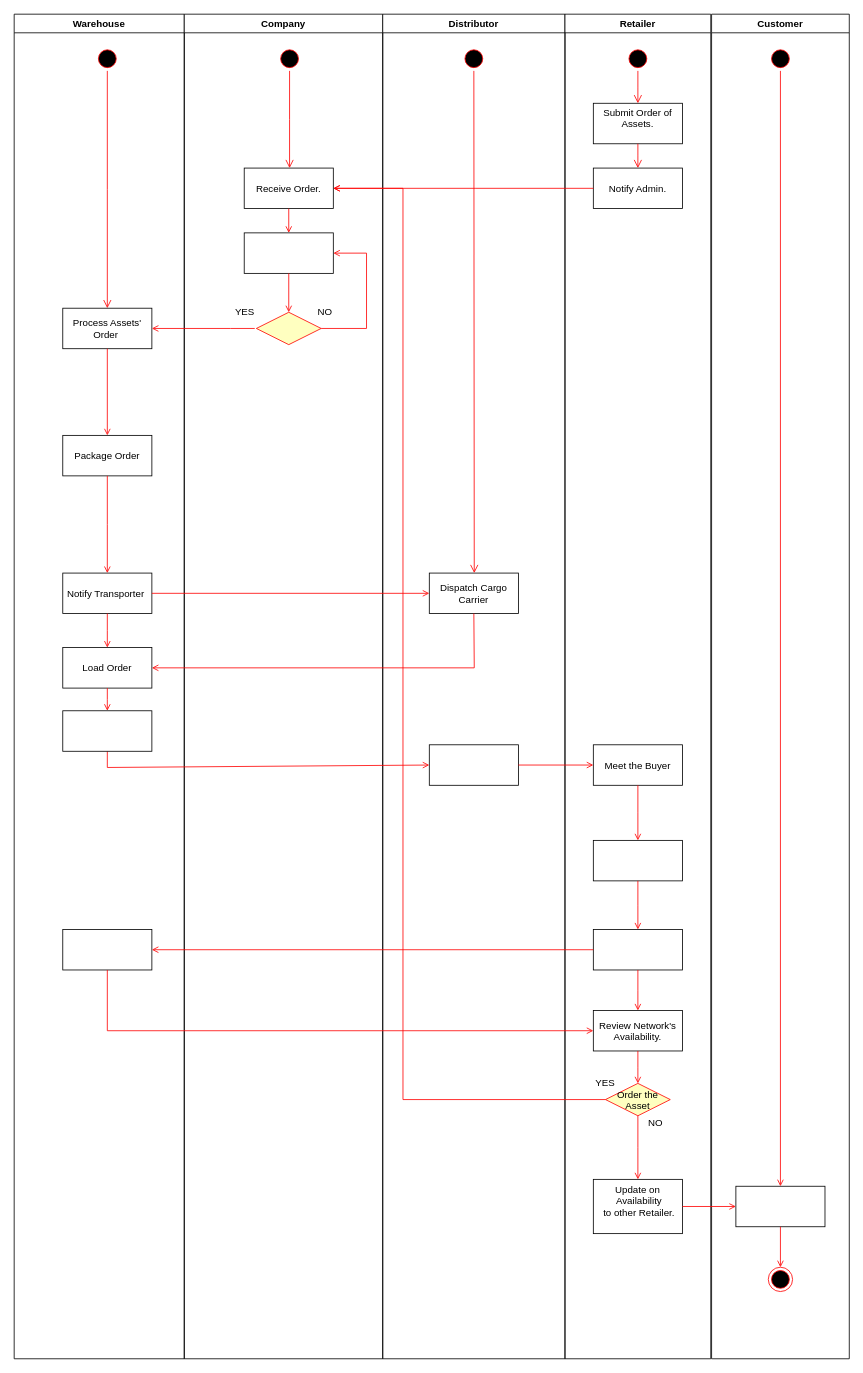
The diagram is 863 pixels wide and 1373 high, and some of its shapes have lost their labels. Here are the shapes that lost their labels. From the top down, the centre of each, then its label:
At (x=288, y=252): "Approve Order".
At (x=288, y=328): "APPROVE".
At (x=107, y=730): "Ship Order".
At (x=473, y=764): "Deliver Order".
At (x=637, y=860): "Identify lack of Asset".
At (x=107, y=949): "Check Availability of Asset.".
At (x=637, y=949): "Check availability of Assets in the Network".
At (x=780, y=1206): "Buy Asset".
